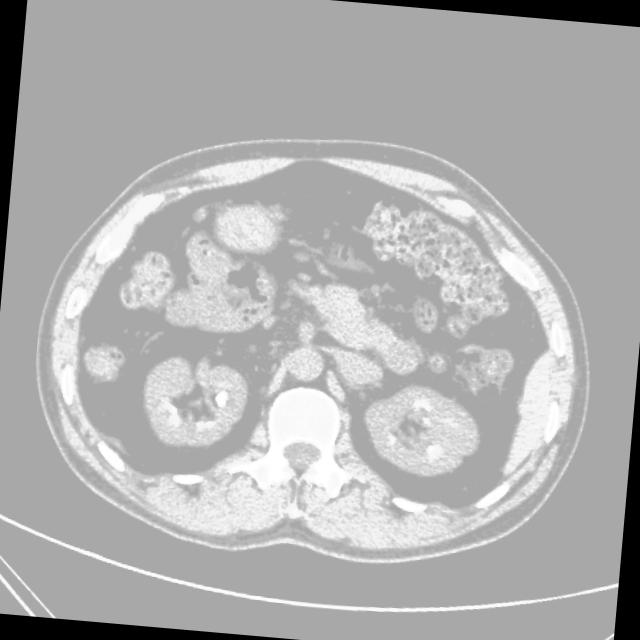STONE: (128, 328, 489, 504)
